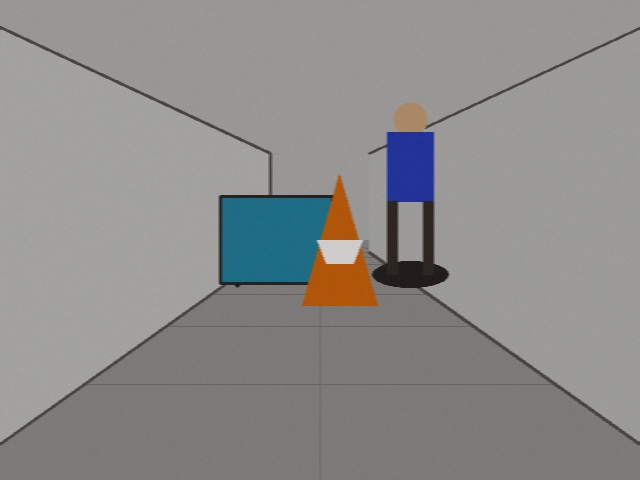cart: (220, 196, 332, 283)
obstacle: (302, 174, 377, 305)
person: (376, 102, 444, 274)
